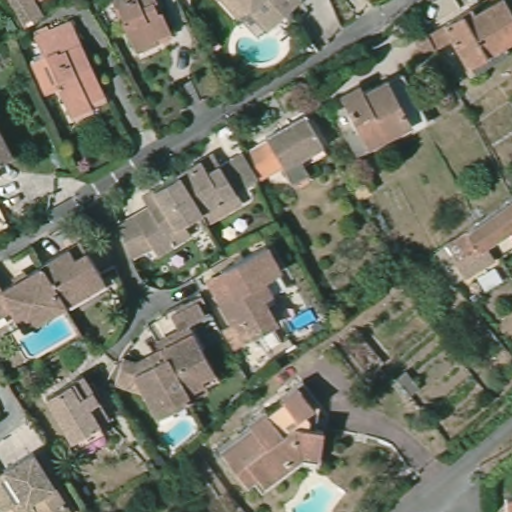pool: (16, 315, 76, 359), (234, 32, 284, 67), (286, 481, 342, 509), (160, 419, 195, 453), (286, 305, 318, 334)
